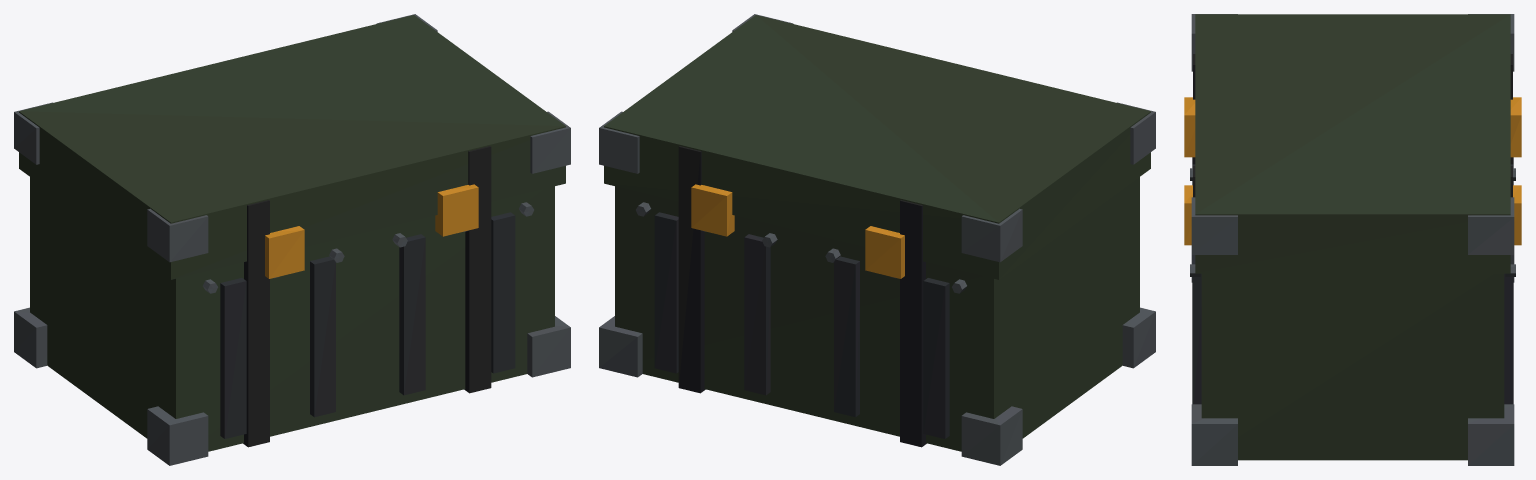
Rendered from br_supply_crate.glb.
3 views of the same model, side by side, from view 1: azimuth 30°, elevation 25°; view 2: azimuth 150°, elevation 25°; view 3: azimuth 270°, elevation 25° (orthographic). The views are drawn at different scales.
Parts seen in each view (by area): view 1: Lid, Hull, Ribs, Corners, Straps, Latches, Bolts; view 2: Lid, Hull, Ribs, Corners, Straps, Latches, Bolts; view 3: Lid, Hull, Corners, Ribs, Latches, Straps.
Boxes of the visible parts, left/top/right/bottom form: Lid: left=19, top=15, right=565, bottom=279; Hull: left=30, top=177, right=554, bottom=451; Ribs: left=220, top=212, right=515, bottom=438; Corners: left=14, top=14, right=570, bottom=465; Straps: left=243, top=146, right=491, bottom=447; Latches: left=265, top=184, right=478, bottom=278; Bolts: left=203, top=202, right=533, bottom=293; Lid: left=604, top=15, right=1150, bottom=279; Hull: left=615, top=177, right=1139, bottom=451; Ribs: left=654, top=212, right=949, bottom=438; Corners: left=599, top=14, right=1155, bottom=465; Straps: left=678, top=146, right=926, bottom=447; Latches: left=691, top=184, right=904, bottom=278; Bolts: left=636, top=202, right=966, bottom=293; Lid: left=1195, top=14, right=1510, bottom=273; Hull: left=1201, top=273, right=1504, bottom=460; Corners: left=1191, top=14, right=1514, bottom=465; Ribs: left=1192, top=157, right=1513, bottom=404; Latches: left=1184, top=97, right=1521, bottom=245; Straps: left=1193, top=54, right=1512, bottom=197.
Size of the model in its own units: 1.37 by 0.7917 by 0.963.
